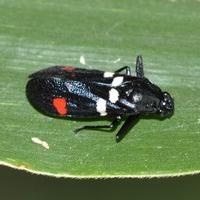insect: (26, 56, 173, 139)
